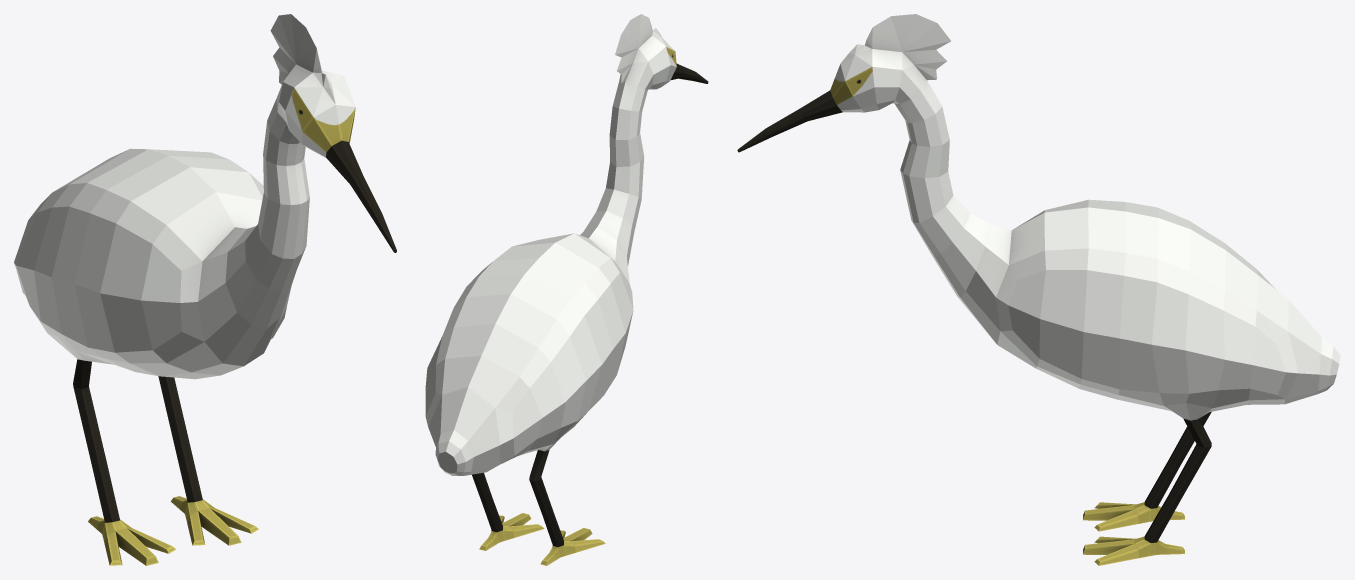
File: 3d2b4d7d-fc7c-400f-acbe-6b18d85476ed.glb
The picture shows the model from 3 angles, left to right: view 1: azimuth 30°, elevation 25°; view 2: azimuth 150°, elevation 25°; view 3: azimuth 270°, elevation 25°; orthographic projection. The views are drawn at different scales.
Parts seen in each view (by area): view 1: SnowyEgret_mesh; view 2: SnowyEgret_mesh; view 3: SnowyEgret_mesh.
Part boxes in pixels (bbox=[...]): SnowyEgret_mesh: bbox=[14, 14, 396, 565]; SnowyEgret_mesh: bbox=[425, 14, 708, 565]; SnowyEgret_mesh: bbox=[737, 14, 1340, 565].
Bounding box in the file's own units: 3.28 × 9.54 × 10.02.
Materials: 1 (1 with a texture image).
